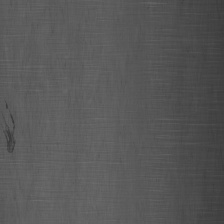water_spot: (0, 91, 18, 162)
